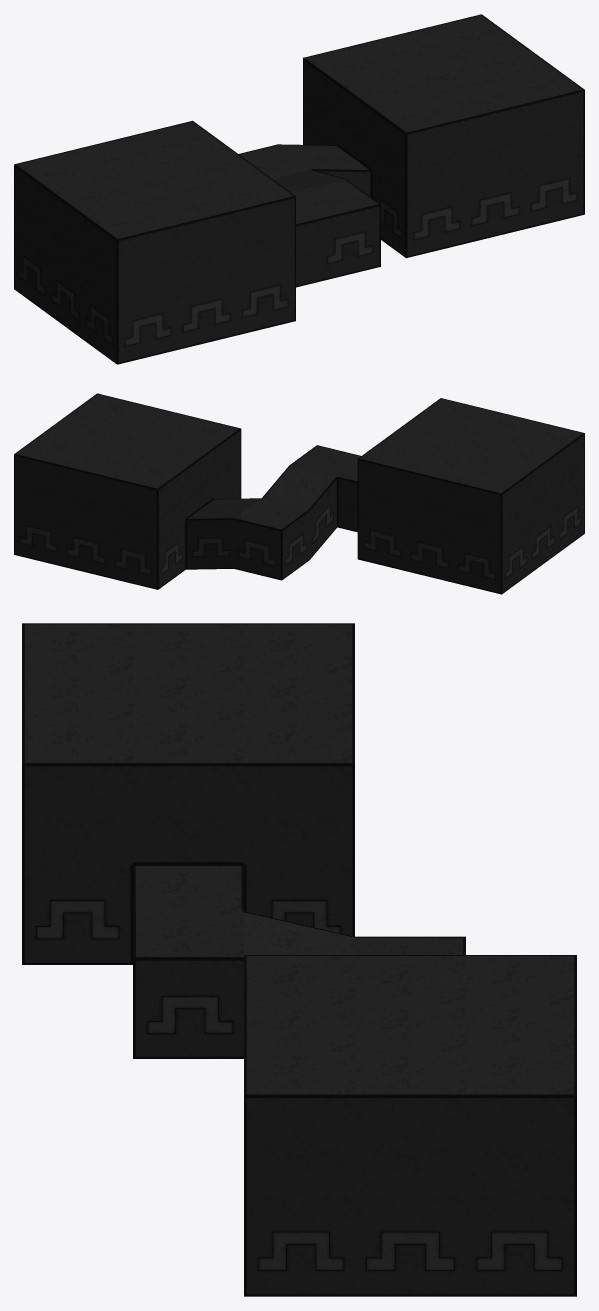
File: map1.obj
3 views of the same model, one above another, from view 1: azimuth 30°, elevation 25°; view 2: azimuth 150°, elevation 25°; view 3: azimuth 270°, elevation 25° (orthographic). The views are drawn at different scales.
Visible parts, largest first — view 1: map.001; view 2: map.001; view 3: map.001.
Part boxes in pixels (x1,y1,x2,y2): map.001: (14, 14, 584, 364); map.001: (14, 393, 584, 594); map.001: (22, 623, 576, 1296).
Size of the model in its own units: 576 by 160 by 320.
Materials: 2 (2 with a texture image).
